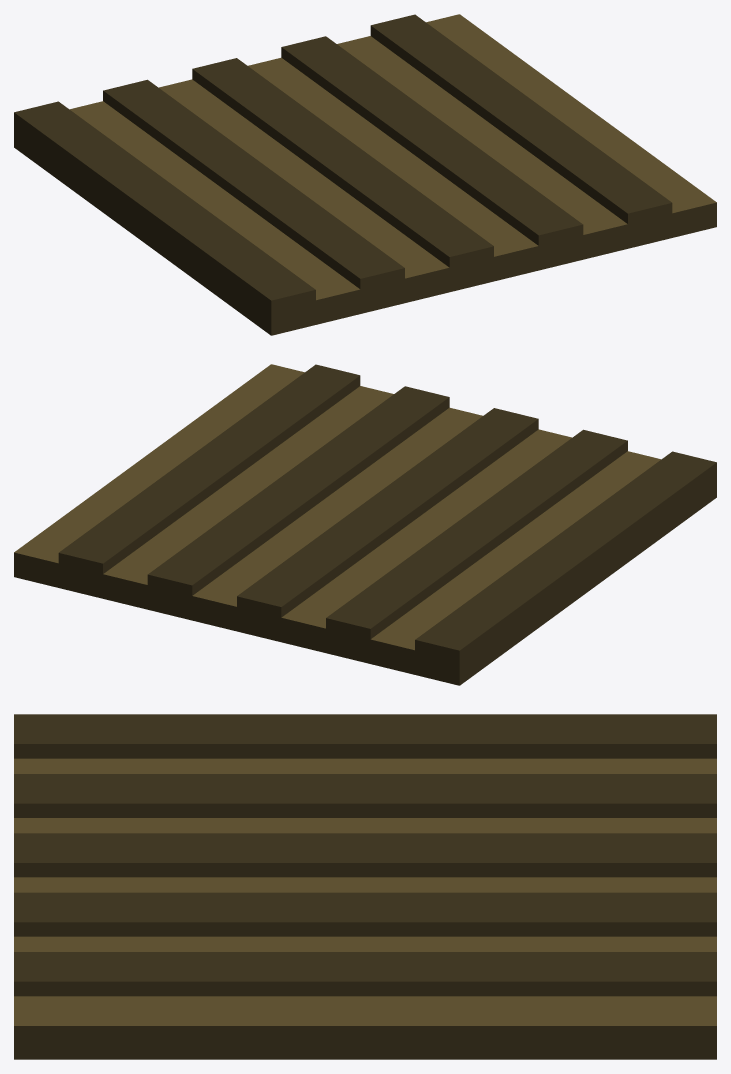
Rendered from HoedGround_FloorTile.fbx.
The picture shows the model from 3 angles, top to bottom: view 1: azimuth 30°, elevation 25°; view 2: azimuth 150°, elevation 25°; view 3: azimuth 270°, elevation 25°; orthographic projection. The views are drawn at different scales.
Visible parts, largest first — view 1: pPlane3; view 2: pPlane3; view 3: pPlane3.
Part boxes in pixels (x1,y1,x2,y2): pPlane3: (14, 14, 716, 335); pPlane3: (14, 364, 716, 685); pPlane3: (14, 714, 716, 1059).
Size of the model in its own units: 5 by 0.3771 by 5.
Materials: 1 (1 with a texture image).
